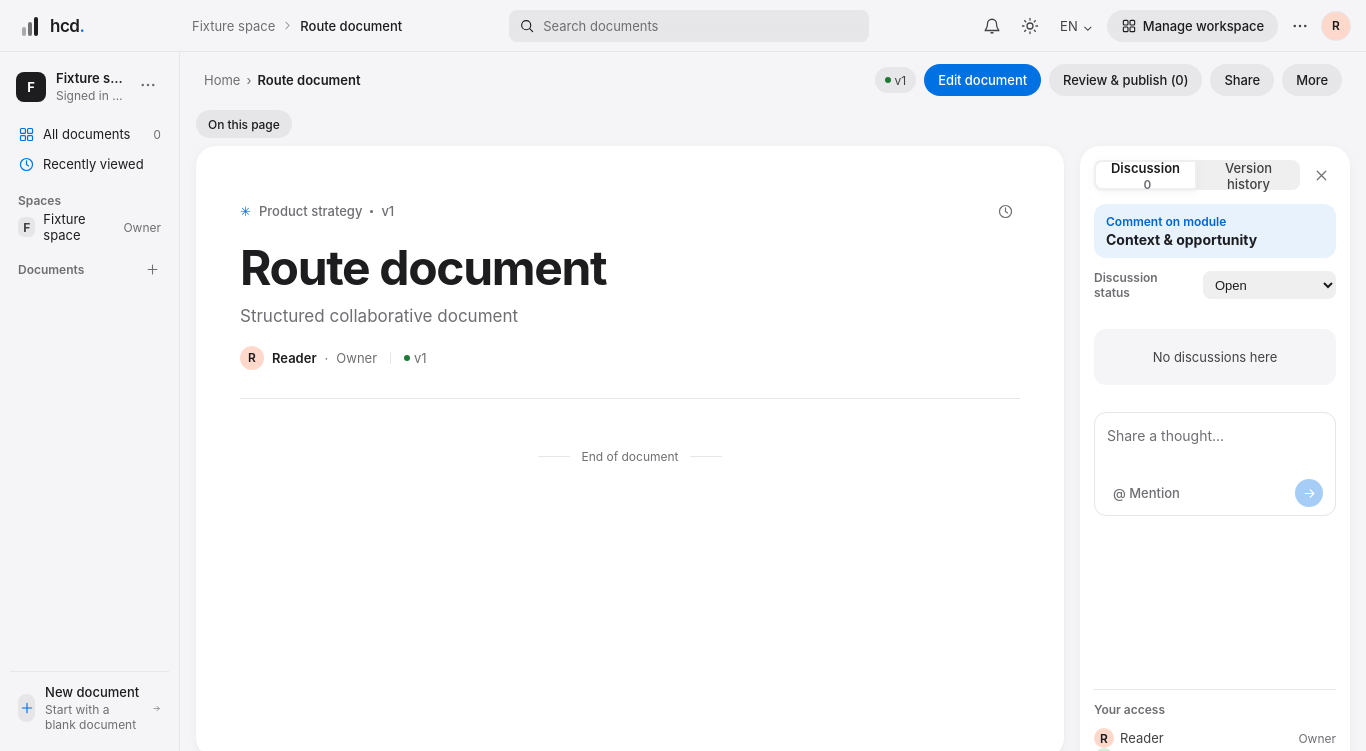
it: C2 reflects logout in the login route
The image size is (1366, 751).
Click the button "R".
click(1336, 26)  # box x1=1322 y1=12 x2=1350 y2=40
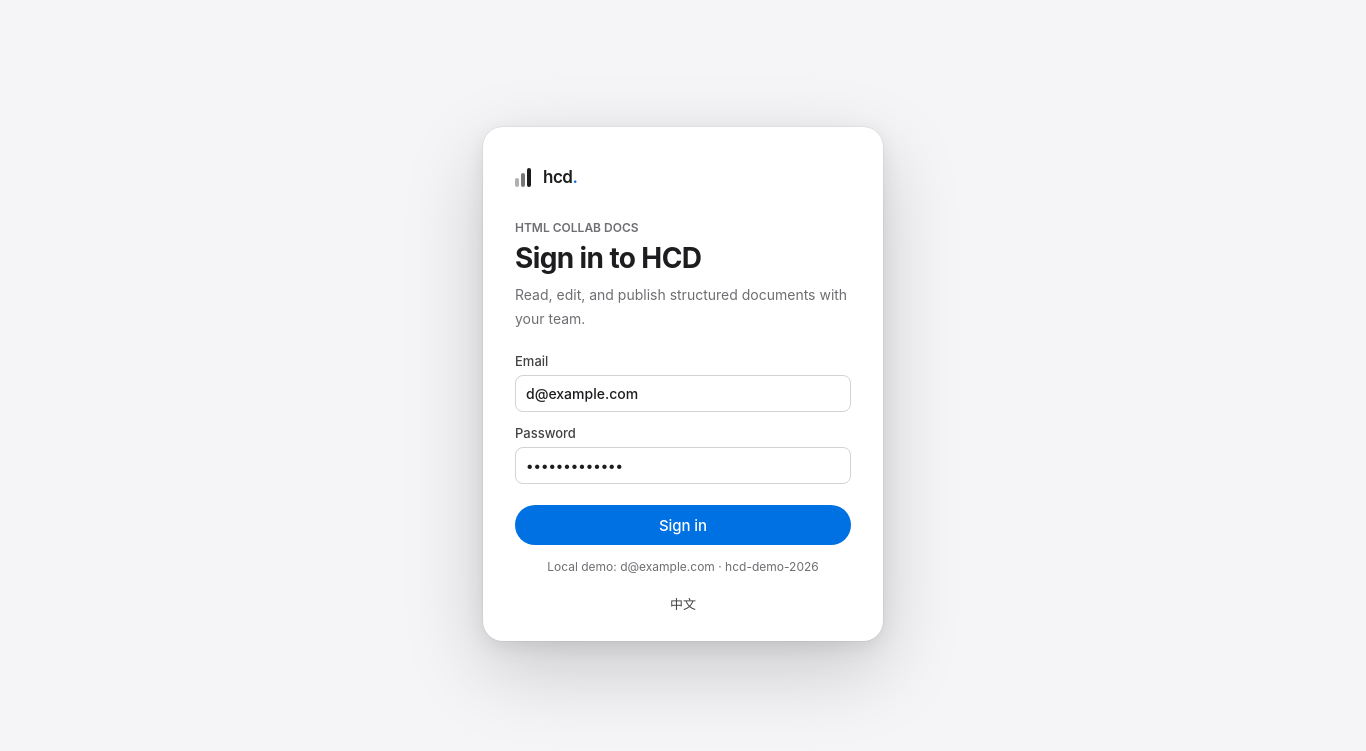
Result: the form with class "auth-card" is shown at x1=483 y1=127 x2=883 y2=641
